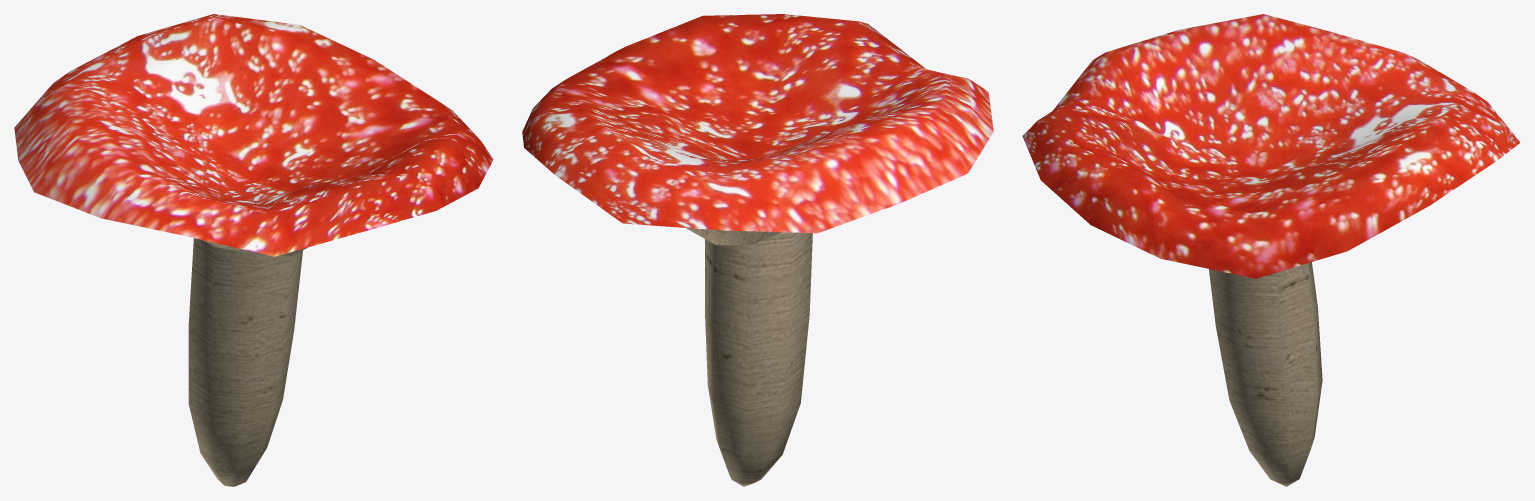
File: jamur resula.fbx
The picture shows the model from 3 angles, left to right: view 1: azimuth 30°, elevation 25°; view 2: azimuth 150°, elevation 25°; view 3: azimuth 270°, elevation 25°; orthographic projection.
Visible parts, largest first — view 1: russula_pink; view 2: russula_pink; view 3: russula_pink.
Part boxes in pixels (left/top/right/bottom): russula_pink: left=14, top=14, right=493, bottom=486; russula_pink: left=522, top=14, right=993, bottom=486; russula_pink: left=1022, top=14, right=1520, bottom=486.
Bounding box in the file's own units: 76.36 × 68.16 × 77.86.
